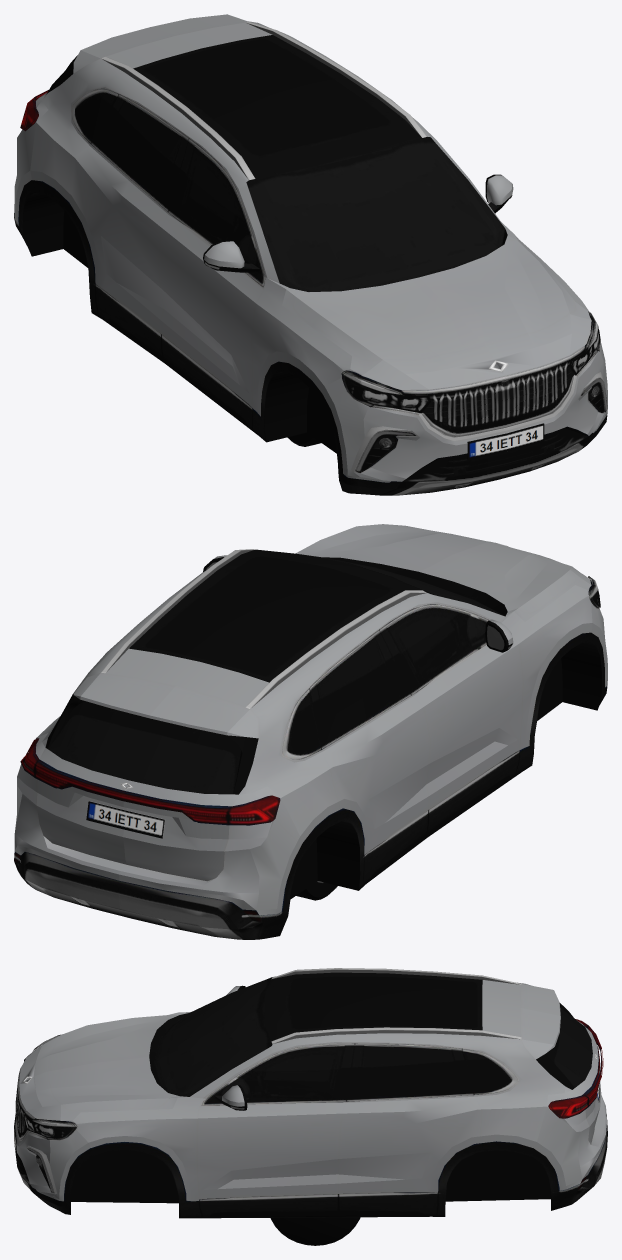
Rendered from togg.fbx.
3 renders of one model, top to bottom at view 1: azimuth 30°, elevation 25°; view 2: azimuth 150°, elevation 25°; view 3: azimuth 270°, elevation 25°, orthographic. The views are drawn at different scales.
Visible parts, largest first — view 1: Togg_Body, FrontLights, RightBlinkers; view 2: Togg_Body, StopLights, RearLights; view 3: Togg_Body, Togg_Wheel, FrontLights, LeftBlinkers, StopLights, RearLights.
Boxes of the visible parts, x1,y1,x2,y2 form: Togg_Body: (14,14,607,495); FrontLights: (343,328,607,472); RightBlinkers: (24,107,402,394); Togg_Body: (14,524,607,939); StopLights: (20,753,273,825); RearLights: (27,746,273,821); Togg_Body: (14,968,607,1218); Togg_Wheel: (270,1217,360,1245); FrontLights: (23,1054,74,1192); LeftBlinkers: (32,1099,571,1126); StopLights: (563,1020,603,1118); RearLights: (562,1019,602,1118).
Size of the model in its own units: 178 by 176 by 394.
